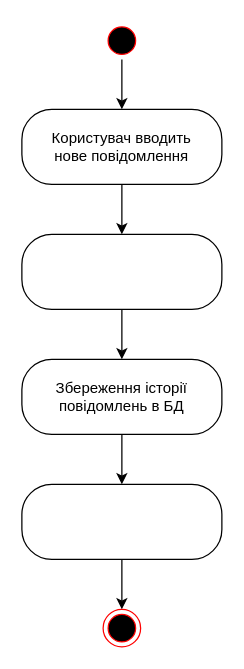
This 244x669 diagram has some shape labels left out. The box of each missing label's shape, as (x1, y1, x2, y2) in pixels:
Доставка повідомлення всім онлайн-учасникам: (21, 483, 222, 559)
Сервер отримує дані та ідентифікує чат: (21, 233, 222, 309)
